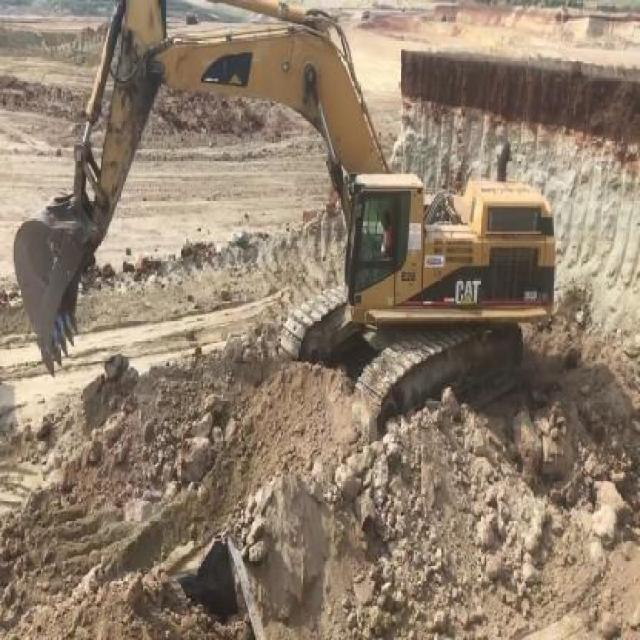Excavator: (6, 0, 563, 442)
